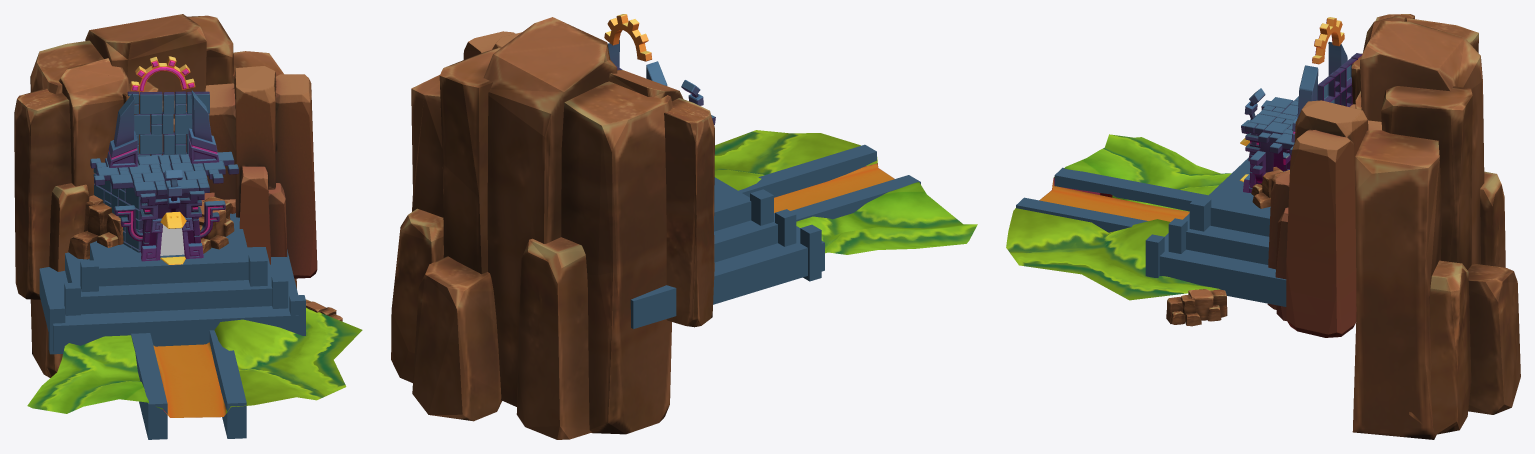
The model's file is SM_Portal_level.FBX.
3 views of the same model, side by side, from view 1: azimuth 30°, elevation 25°; view 2: azimuth 150°, elevation 25°; view 3: azimuth 270°, elevation 25° (orthographic). The views are drawn at different scales.
Parts seen in each view (by area): view 1: SM_Platform_Portal_01, pCube288, SM_Rockwall_Set_01_30, SM_Rockwall_Set_03_2, SM_Rockwall_Set_01_25, PortalPillars, pCube290, pCube291, SM_Rockwall_Set_01_22, SM_Rockwall_Set_01_29, PortalWings_1, PortalSun (+17 smaller); view 2: SM_Rockwall_Set_01_25, SM_Platform_Portal_01, SM_Rockwall_Set_01_30, pCube288, pCube291, pCube290, PortalSun, pCube294, SM_Rockwall_Set_03_2, pCube292, pCube293, PortalPillars; view 3: SM_Rockwall_Set_01_25, SM_Rockwall_Set_03_2, SM_Platform_Portal_01, pCube288, pCube290, SM_Rockwall_Set_01_17, pCube291, PortalPillars, SM_Rockwall_Set_01_30, PortalSun, PortalBase_1, pCube297 (+3 smaller).
Part boxes in pixels (box(x1,y1,x2,y2)): SM_Platform_Portal_01: box(27, 307, 362, 417); pCube288: box(39, 213, 303, 352); SM_Rockwall_Set_01_30: box(14, 58, 186, 299); SM_Rockwall_Set_03_2: box(162, 66, 317, 278); SM_Rockwall_Set_01_25: box(30, 14, 296, 377); PortalPillars: box(107, 90, 219, 167); pCube290: box(131, 333, 167, 439); pCube291: box(209, 330, 246, 438); SM_Rockwall_Set_01_22: box(68, 195, 123, 259); SM_Rockwall_Set_01_29: box(198, 197, 234, 253); PortalWings_1: box(114, 200, 225, 241); PortalSun: box(130, 56, 195, 92); SM_Rockwall_Set_01_25: box(391, 17, 672, 439); SM_Platform_Portal_01: box(714, 130, 977, 254); SM_Rockwall_Set_01_30: box(608, 70, 714, 327); pCube288: box(630, 177, 824, 328); pCube291: box(738, 144, 876, 197); pCube290: box(790, 175, 920, 221); PortalSun: box(604, 14, 651, 61); pCube294: box(800, 224, 821, 281); SM_Rockwall_Set_03_2: box(463, 31, 521, 59); pCube292: box(750, 189, 773, 225); pCube293: box(775, 209, 796, 246); PortalPillars: box(607, 40, 667, 85); SM_Rockwall_Set_01_25: box(1352, 18, 1520, 439); SM_Rockwall_Set_03_2: box(1267, 100, 1381, 337); SM_Platform_Portal_01: box(1006, 134, 1231, 300); pCube288: box(1159, 158, 1286, 306); pCube290: box(1054, 167, 1207, 211); SM_Rockwall_Set_01_17: box(1166, 289, 1227, 326); pCube291: box(1016, 197, 1148, 232); PortalPillars: box(1291, 41, 1347, 142); SM_Rockwall_Set_01_30: box(1351, 14, 1414, 109); PortalSun: box(1312, 17, 1344, 64); PortalBase_1: box(1249, 133, 1291, 192); pCube297: box(1145, 234, 1164, 277).
Bounding box in the file's own units: 3306 × 2740 × 3739.
